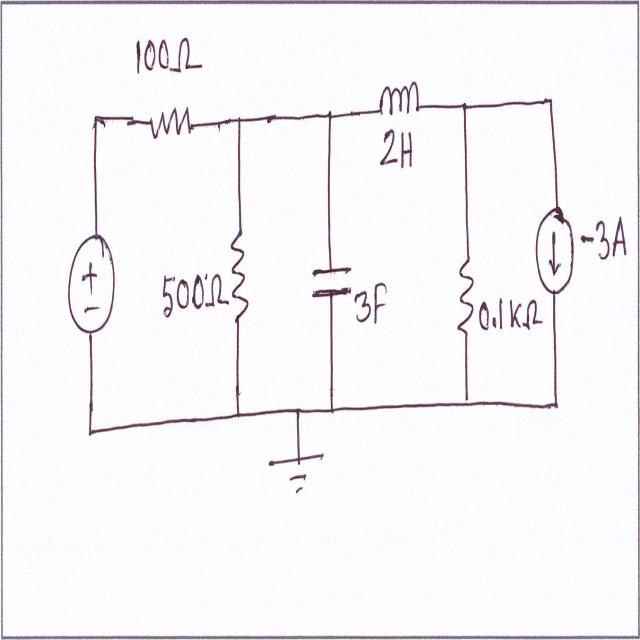capacitor: (308, 260, 352, 308)
current_source: (532, 200, 578, 300)
ground: (266, 448, 333, 499)
inductor: (373, 77, 427, 124)
resistor: (140, 101, 197, 149), (225, 227, 252, 328), (452, 246, 476, 348)
voltage_source: (64, 224, 118, 344)
